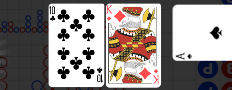10C: (96, 67, 104, 84)
AS: (175, 52, 194, 61)
